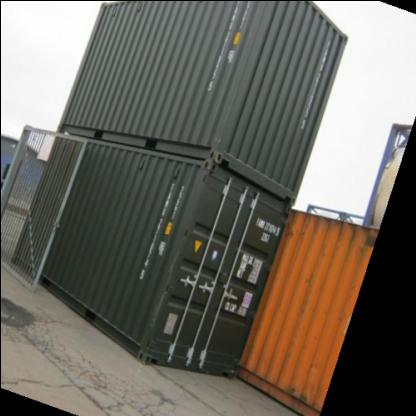Damage: (145, 252, 179, 328), (284, 354, 322, 400), (207, 90, 232, 152), (333, 225, 380, 254)
